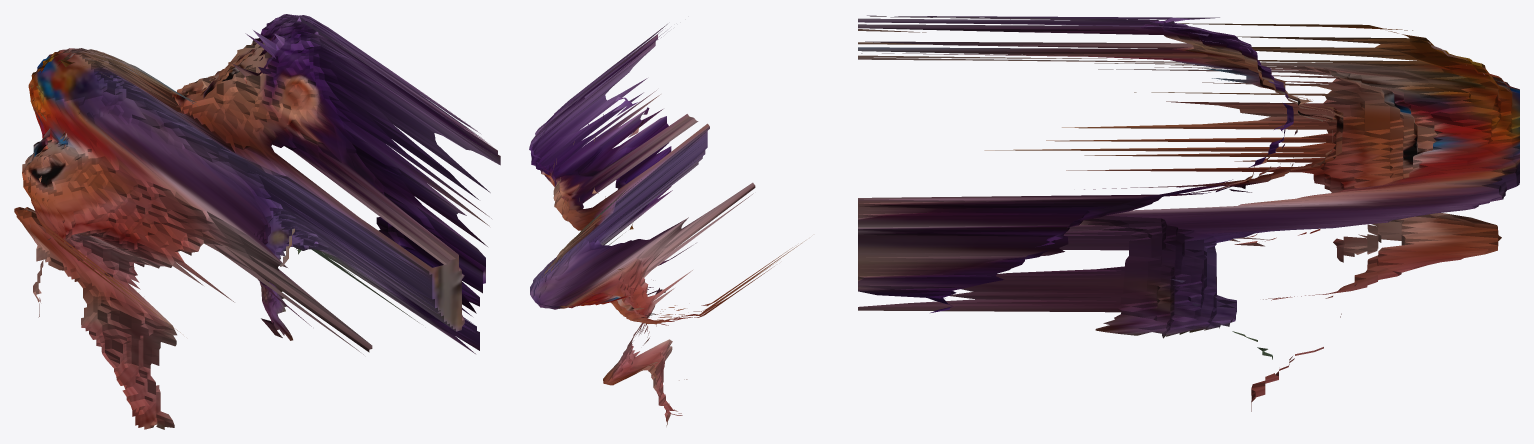
The model's file is frame_00009.glb.
The picture shows the model from 3 angles, left to right: view 1: azimuth 30°, elevation 25°; view 2: azimuth 150°, elevation 25°; view 3: azimuth 270°, elevation 25°; orthographic projection. The views are drawn at different scales.
Visible parts, largest first — view 1: geometry_0; view 2: geometry_0; view 3: geometry_0.
Part boxes in pixels (x1,y1,x2,y2): geometry_0: (14, 14, 500, 429); geometry_0: (529, 24, 805, 426); geometry_0: (858, 15, 1519, 411).
Size of the model in its own units: 0.0892 by 0.1244 by 0.16.
Materials: 1 (1 with a texture image).
